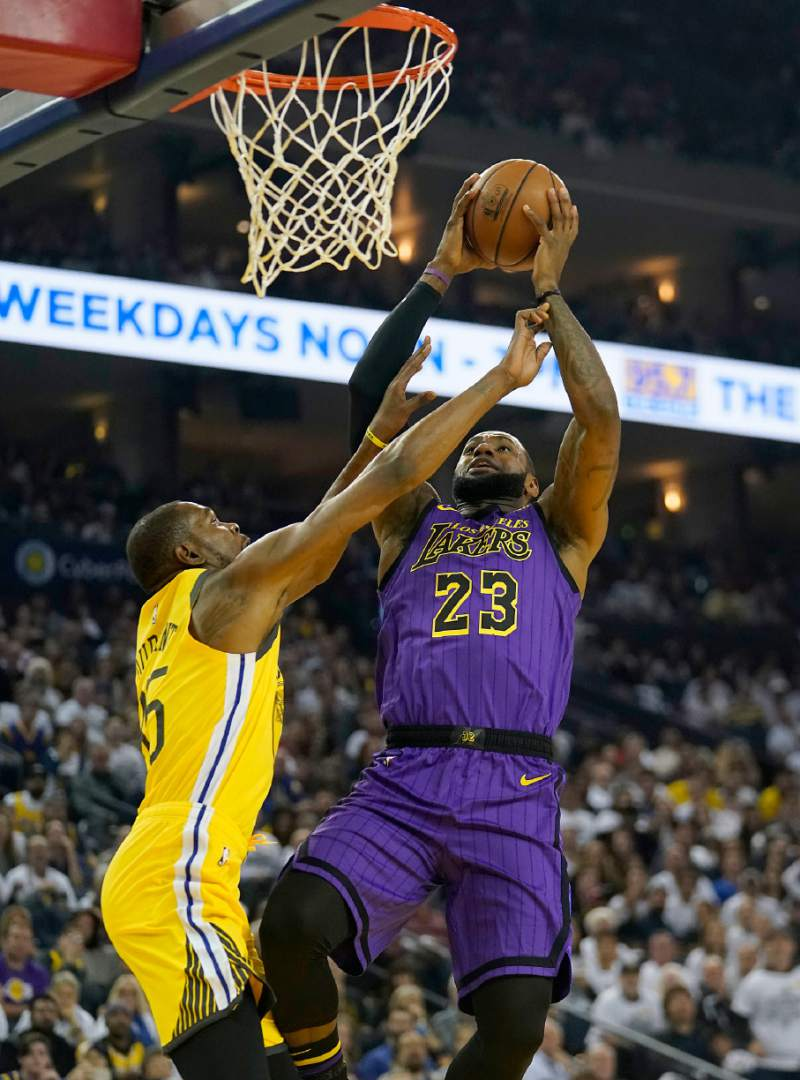Basketball: (456, 154, 569, 272)
